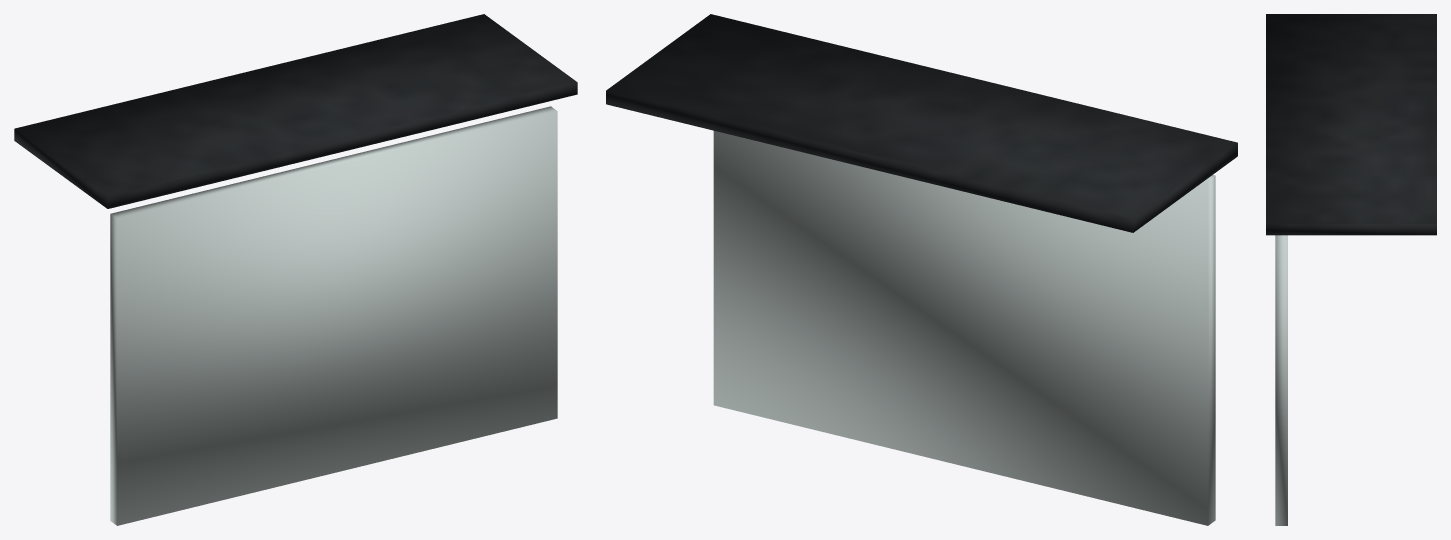
File: pack.agentspace.busstop.shelter.01.glb
3 renders of one model, left to right at view 1: azimuth 30°, elevation 25°; view 2: azimuth 150°, elevation 25°; view 3: azimuth 270°, elevation 25°, orthographic. The views are drawn at different scales.
Visible parts, largest first — view 1: pack.agentspace.busstop.shelter.01.panel, pack.agentspace.busstop.shelter.01.roof; view 2: pack.agentspace.busstop.shelter.01.panel, pack.agentspace.busstop.shelter.01.roof; view 3: pack.agentspace.busstop.shelter.01.roof, pack.agentspace.busstop.shelter.01.panel.
Part boxes in pixels (left/top/right/bottom): pack.agentspace.busstop.shelter.01.panel: left=110, top=106, right=557, bottom=525; pack.agentspace.busstop.shelter.01.roof: left=14, top=14, right=577, bottom=208; pack.agentspace.busstop.shelter.01.panel: left=713, top=131, right=1215, bottom=525; pack.agentspace.busstop.shelter.01.roof: left=606, top=14, right=1237, bottom=232; pack.agentspace.busstop.shelter.01.roof: left=1266, top=14, right=1436, bottom=235; pack.agentspace.busstop.shelter.01.panel: left=1275, top=235, right=1287, bottom=525.
Size of the model in its own units: 3.2 by 2.19 by 1.1.
Materials: 2 (1 with a texture image).
